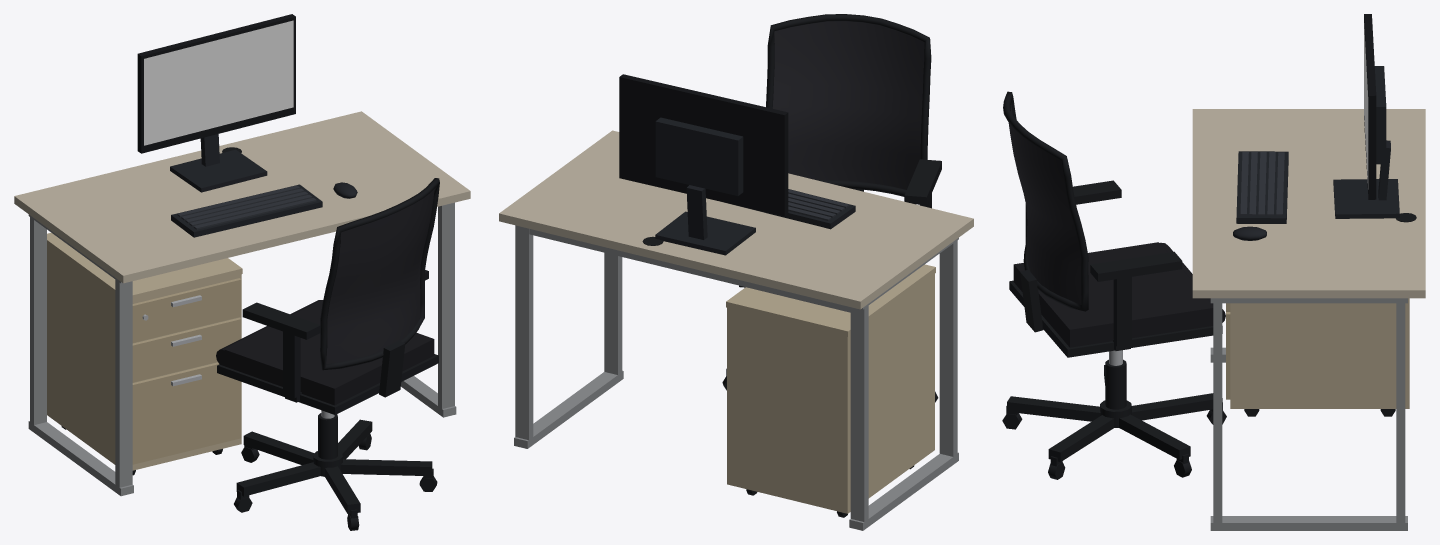
File: furn_desk_dev.glb
3 renders of one model, left to right at view 1: azimuth 30°, elevation 25°; view 2: azimuth 150°, elevation 25°; view 3: azimuth 270°, elevation 25°, orthographic. The views are drawn at different scales.
Parts seen in each view (by area): view 1: furn.desk_dev; view 2: furn.desk_dev; view 3: furn.desk_dev.
Boxes of the visible parts, left/top/right/bottom form: furn.desk_dev: left=14, top=14, right=470, bottom=530; furn.desk_dev: left=499, top=14, right=973, bottom=530; furn.desk_dev: left=1002, top=14, right=1425, bottom=530.
Bounding box in the file's own units: 1.2 × 1.2 × 1.18.
